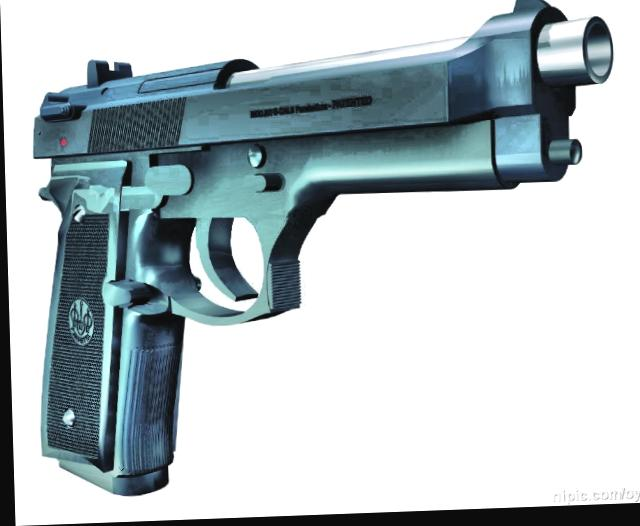pistol: (22, 0, 622, 493)
